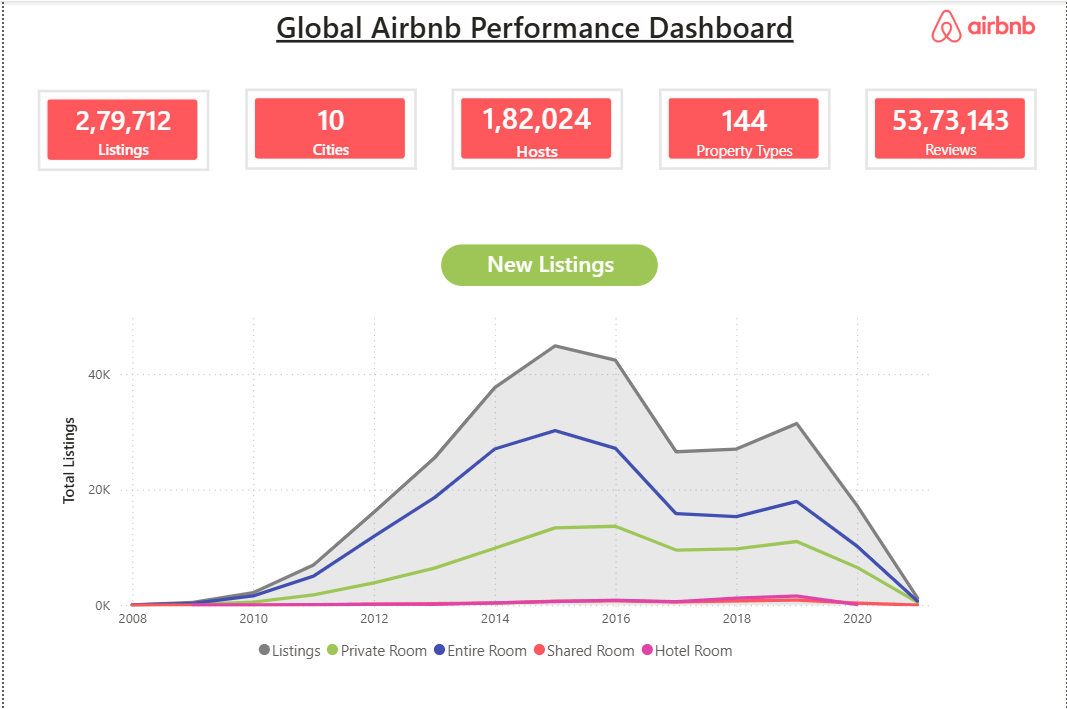

The dashboard page shown, as its layout file describes it:
{"tool":"powerbi","page":{"name":"Overview","canvas":[960,720],"ordinal":0},"visuals":[{"type":"textbox","box":[168.2,0,623.5,74.2],"z":0},{"type":"image","box":[811.8,7.9,148.1,29.4],"z":1000},{"type":"cardVisual","fields":{"Data":["CountNonNull(Listings.listing_id)"]},"box":[30.8,80.5,154.9,73.5],"z":2000},{"type":"cardVisual","fields":{"Data":["Count(Listings.host_id)"]},"box":[405,79.4,154.9,73.5],"z":3000},{"type":"cardVisual","fields":{"Data":["Count(Listings.property_type)"]},"box":[592.1,79.4,154.9,73.5],"z":4000},{"type":"cardVisual","fields":{"Data":["CountNonNull(Reviews.review_id)"]},"box":[779.3,79.4,154.9,73.5],"z":5000},{"type":"cardVisual","fields":{"Data":["Count(Listings.city)"]},"box":[217.9,79.4,154.9,73.5],"z":6000},{"type":"lineChart","fields":{"Category":["Listings.host_since.Variation.Date Hierarchy.Year"],"Y":["CountNonNull(Listings.listing_id)","Listings.Private Room","Listings.Entire Room","Listings.Shared Room","Listings.Hotel Room"]},"box":[48.6,271.4,796,334.7],"z":7000},{"type":"textbox","title":"New Listings","box":[394.6,219.3,197.9,39.6],"z":8000}]}

Visuals, with their boxes on the page's 960x720 design canvas (x1, y1, x2, y2). These are canvas units, not pixel positions in the 1067x709 screenshot, which may show the page scaled, cropped or inside an application window:
textbox: rect(168, 0, 792, 74)
image: rect(812, 8, 960, 37)
cardVisual - CountNonNull(Listings.listing_id): rect(31, 80, 186, 154)
cardVisual - Count(Listings.host_id): rect(405, 79, 560, 153)
cardVisual - Count(Listings.property_type): rect(592, 79, 747, 153)
cardVisual - CountNonNull(Reviews.review_id): rect(779, 79, 934, 153)
cardVisual - Count(Listings.city): rect(218, 79, 373, 153)
lineChart - Listings.host_since.Variation.Date Hierarchy.Year x CountNonNull(Listings.listing_id): rect(49, 271, 845, 606)
"New Listings" textbox: rect(395, 219, 592, 259)
